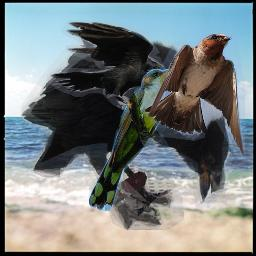Crow: (21, 35, 233, 230), (47, 20, 170, 110)
Cuckoo: (89, 69, 176, 211)
Swallow: (145, 33, 245, 158)
